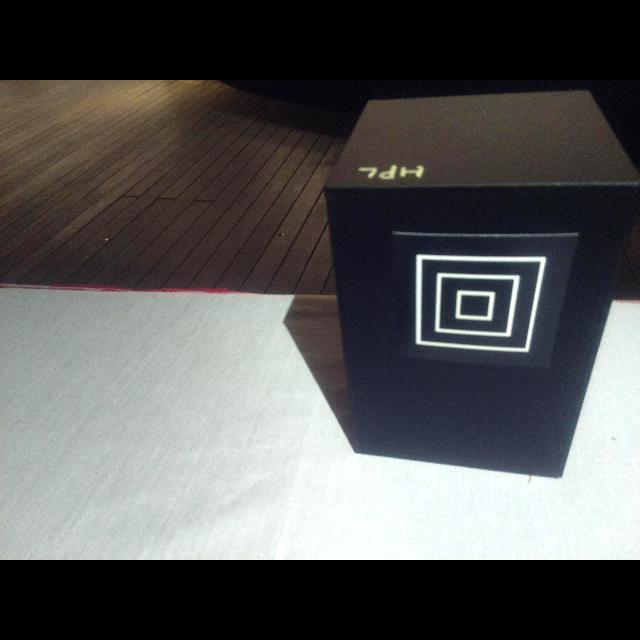BULLSEYE: (415, 254, 548, 353)
